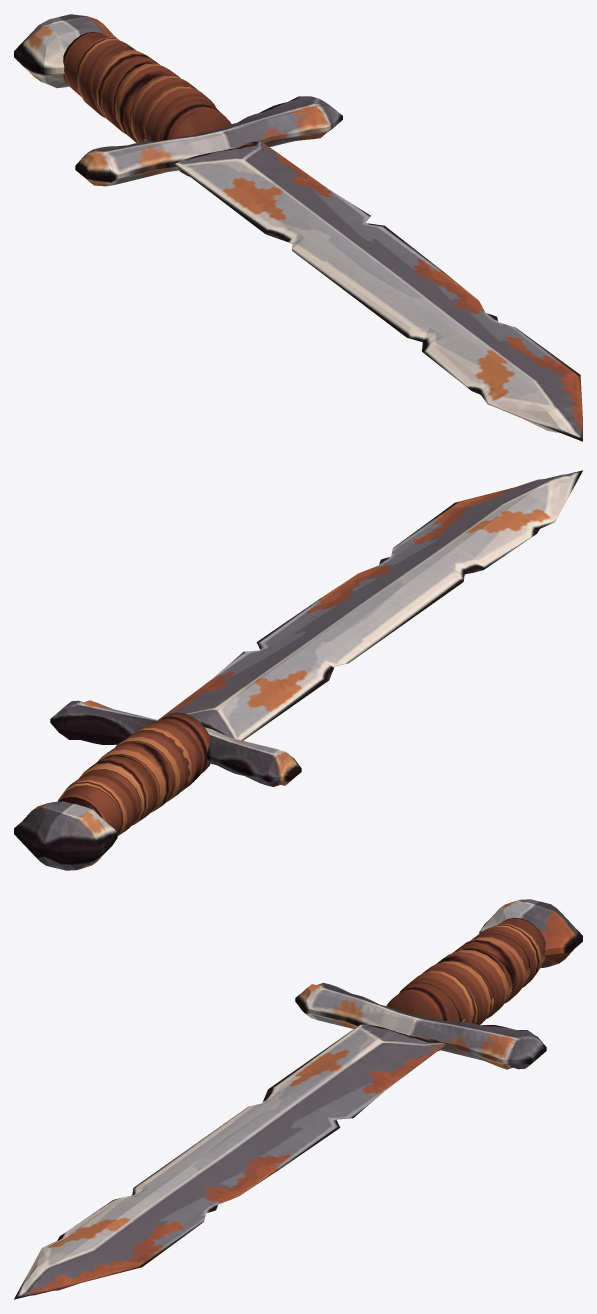
Rendered from rusty_sword.glb.
The picture shows the model from 3 angles, top to bottom: view 1: azimuth 30°, elevation 25°; view 2: azimuth 150°, elevation 25°; view 3: azimuth 330°, elevation 25°; orthographic projection. The views are drawn at different scales.
Visible parts, largest first — view 1: rusty_sword_game_mesh; view 2: rusty_sword_game_mesh; view 3: rusty_sword_game_mesh.
Boxes of the visible parts, x1=… form: rusty_sword_game_mesh: x1=14, y1=14, x2=582, y2=441; rusty_sword_game_mesh: x1=14, y1=470, x2=582, y2=870; rusty_sword_game_mesh: x1=14, y1=899, x2=582, y2=1299.
Size of the model in its own units: 0.2625 by 0.0721 by 0.9953.
1 material, 1 textured.
